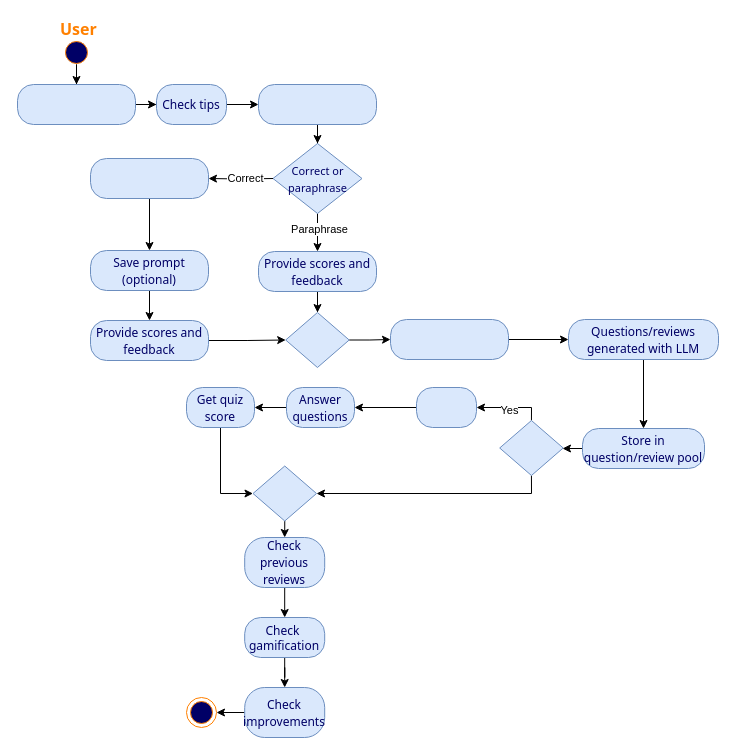
The diagram is 736 pixels wide and 755 high, and some of its shapes have lost their labels. Here are the shapes that lost their labels. From the top down, the centre of each, then its label:
point 76,104: Look up tips for improvement
point 317,104: Add writing + optional title/section
point 149,178: Choose suggestion or write own prompt
point 449,339: Submissions stored in DB
point 446,407: Create quiz
point 531,448: Quiz?
